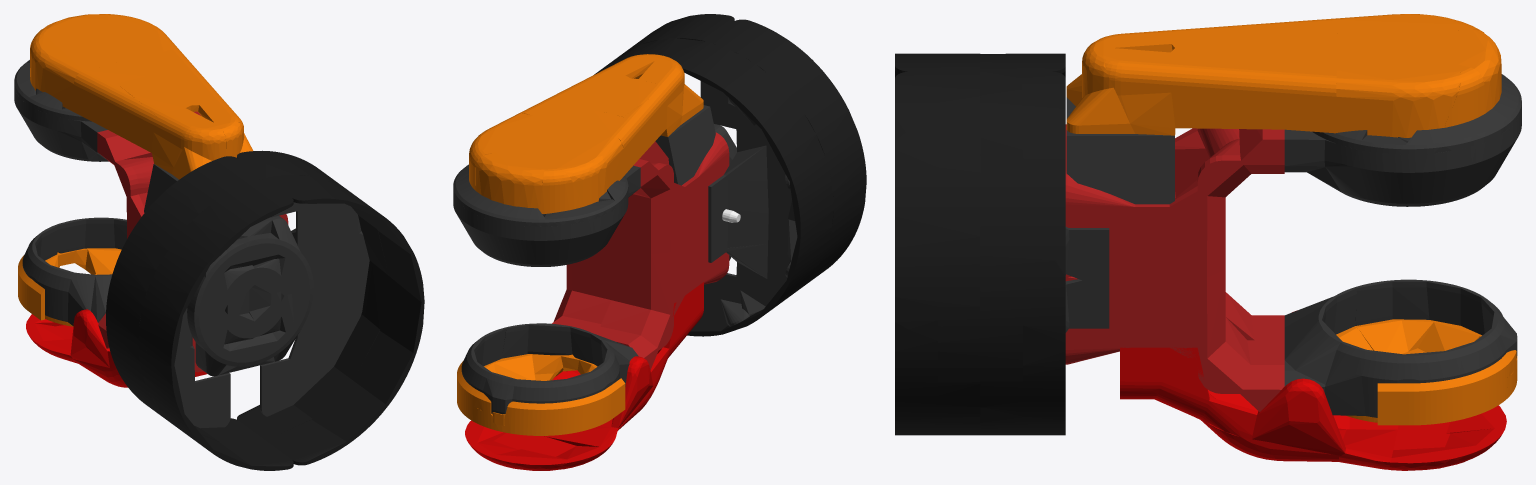
File: LARM_LINK3_mesh.dae
3 renders of one model, left to right at view 1: azimuth 30°, elevation 25°; view 2: azimuth 150°, elevation 25°; view 3: azimuth 270°, elevation 25°, orthographic. The views are drawn at different scales.
Parts seen in each view (by area): view 1: LARM_LINK3 (×14); view 2: LARM_LINK3 (×12); view 3: LARM_LINK3 (×12).
Part boxes in pixels (x1,y1,x2,y2): LARM_LINK3 (×14): [14, 14, 424, 470]; LARM_LINK3 (×12): [453, 14, 866, 470]; LARM_LINK3 (×12): [895, 14, 1521, 470].
Bounding box in the file's own units: 0.123 × 0.1389 × 0.202.
